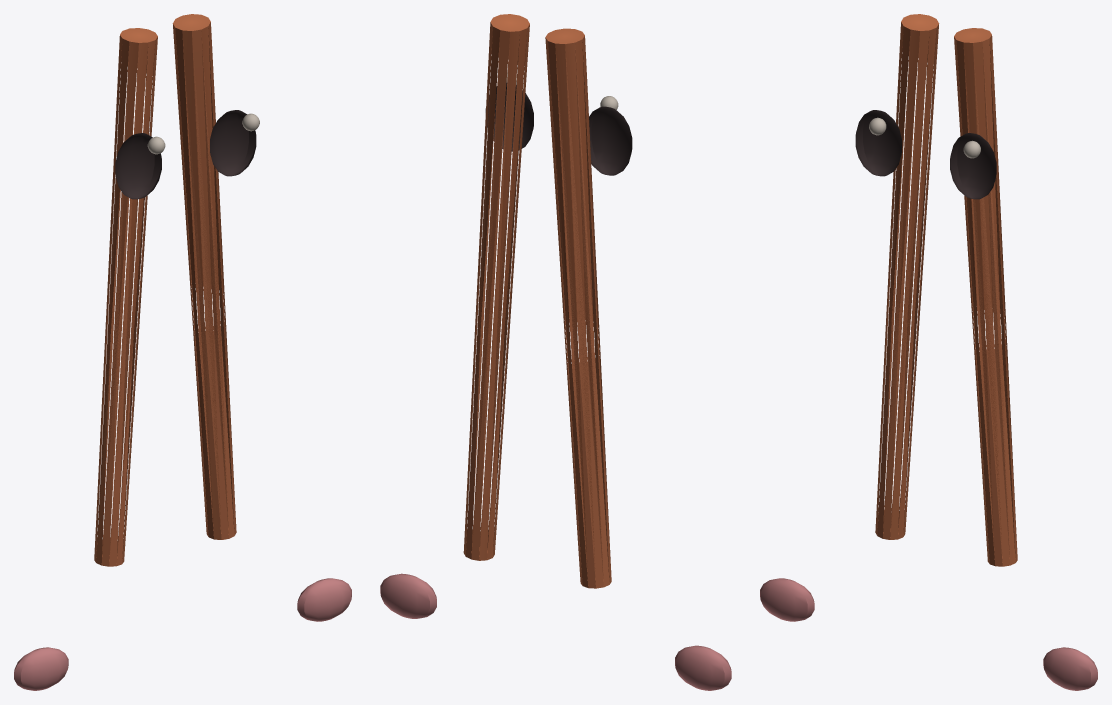
3 views of the same model, side by side, from view 1: azimuth 30°, elevation 25°; view 2: azimuth 150°, elevation 25°; view 3: azimuth 330°, elevation 25° (orthographic). The views are drawn at different scales.
Visible parts, largest first — view 1: pet_pc101e8ef; view 2: pet_pc101e8ef; view 3: pet_pc101e8ef.
Part boxes in pixels (box(x1,y1,x2,y2)): pet_pc101e8ef: box(14, 14, 351, 690); pet_pc101e8ef: box(380, 14, 731, 690); pet_pc101e8ef: box(760, 14, 1097, 690).
Bounding box in the file's own units: 0.2861 × 0.4968 × 0.0644.
